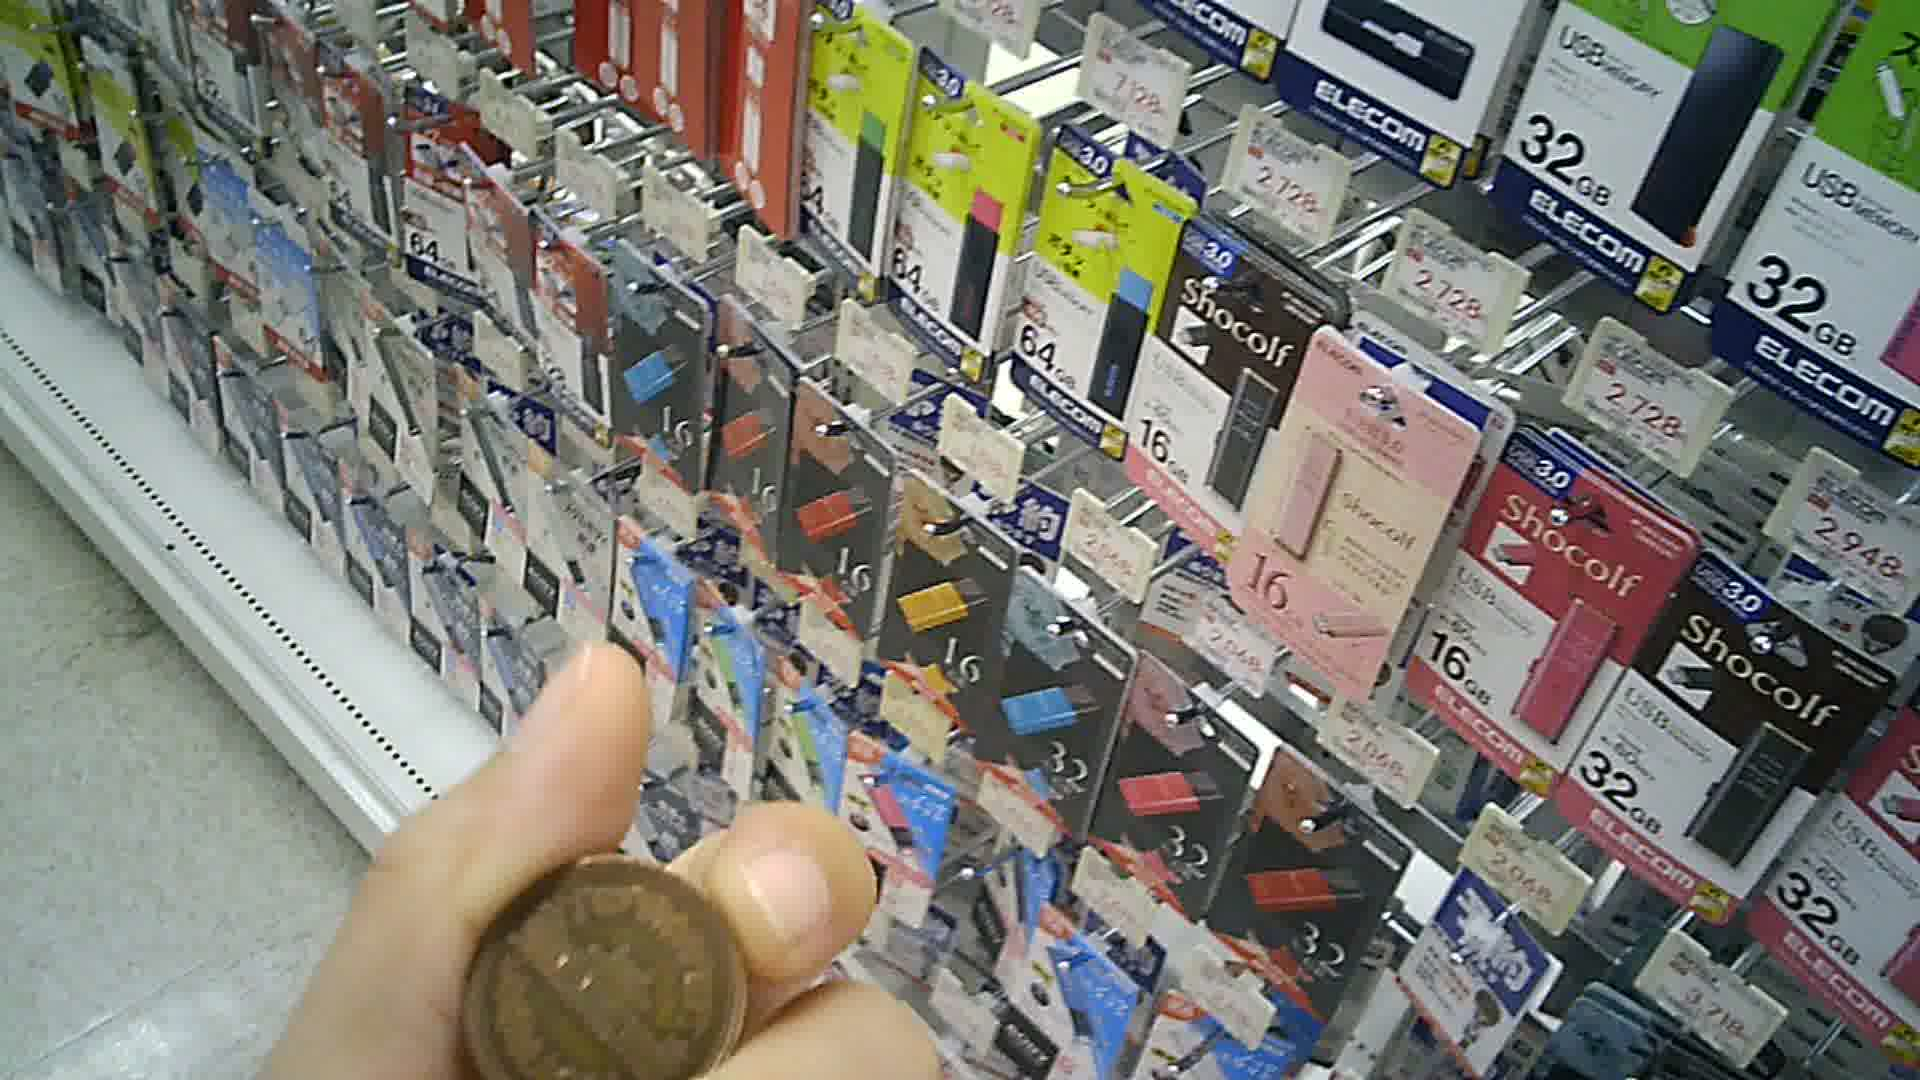10 Yen: (455, 858, 744, 1075)
